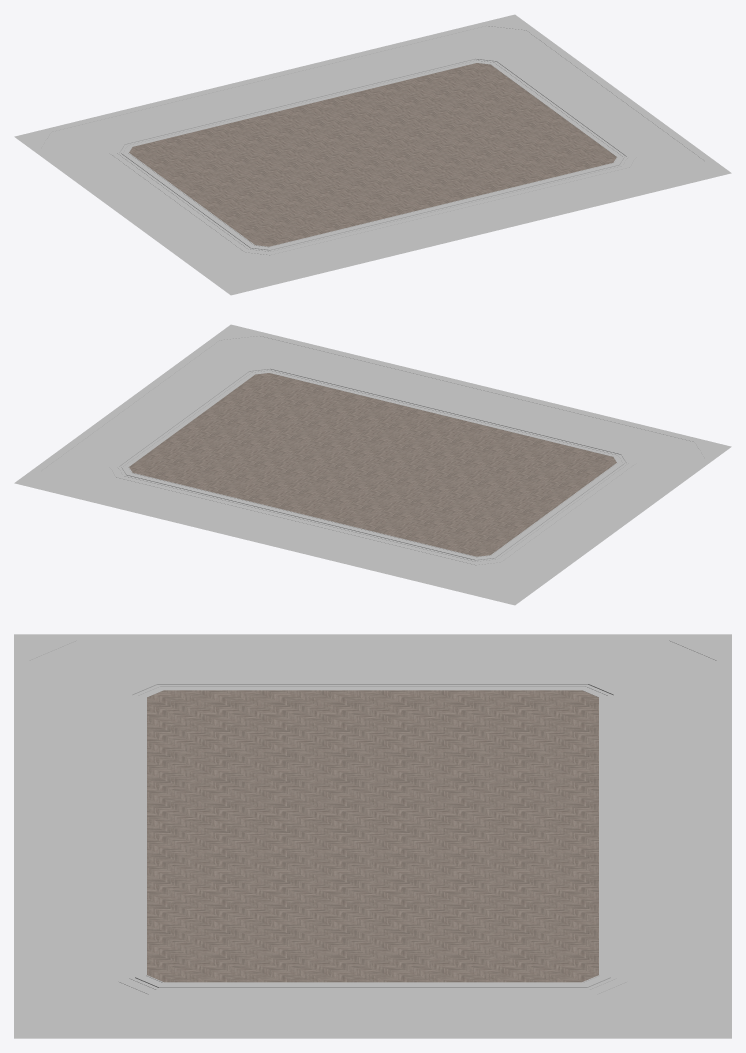
3 views of the same model, one above another, from view 1: azimuth 30°, elevation 25°; view 2: azimuth 150°, elevation 25°; view 3: azimuth 270°, elevation 25° (orthographic). The views are drawn at different scales.
Parts seen in each view (by area): view 1: M_F_002_a_32x24; view 2: M_F_002_a_32x24; view 3: M_F_002_a_32x24.
Boxes of the visible parts, left/top/right/bottom form: M_F_002_a_32x24: left=14, top=14, right=731, bottom=295; M_F_002_a_32x24: left=14, top=324, right=731, bottom=605; M_F_002_a_32x24: left=14, top=634, right=731, bottom=1038.
Bounding box in the file's own units: 32 × 0.03 × 24.
